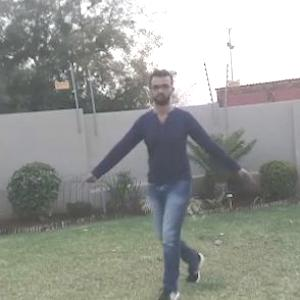land: (89, 67, 252, 289)
